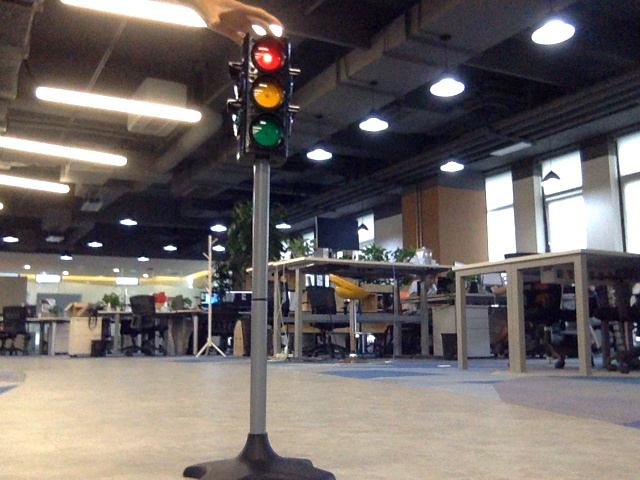red: (248, 41, 282, 149)
